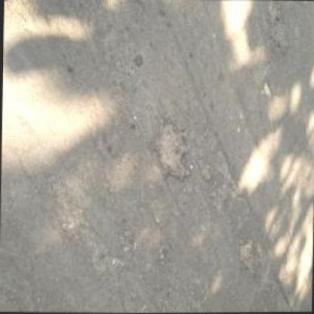Hueco: (151, 117, 192, 183)
